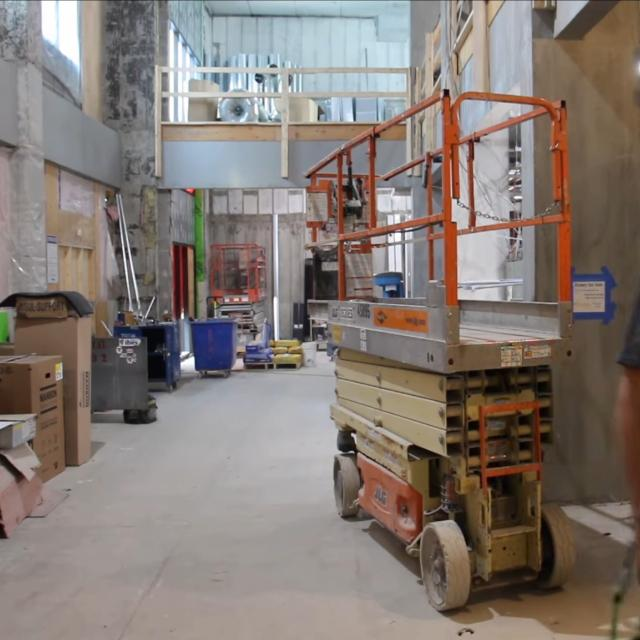2m above platform: (300, 87, 580, 606), (324, 296, 576, 592)
